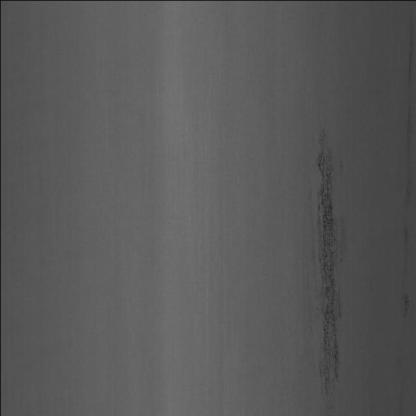inclusion: (304, 130, 353, 396)
